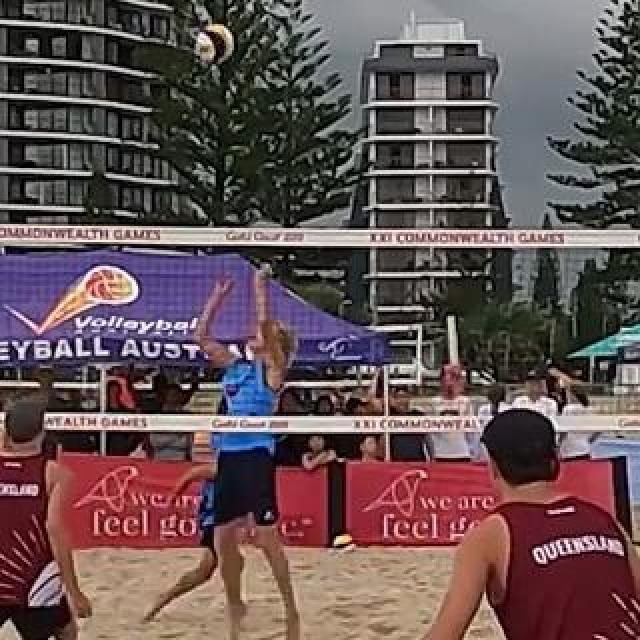volleyball: (198, 24, 234, 62), (333, 534, 355, 556)
